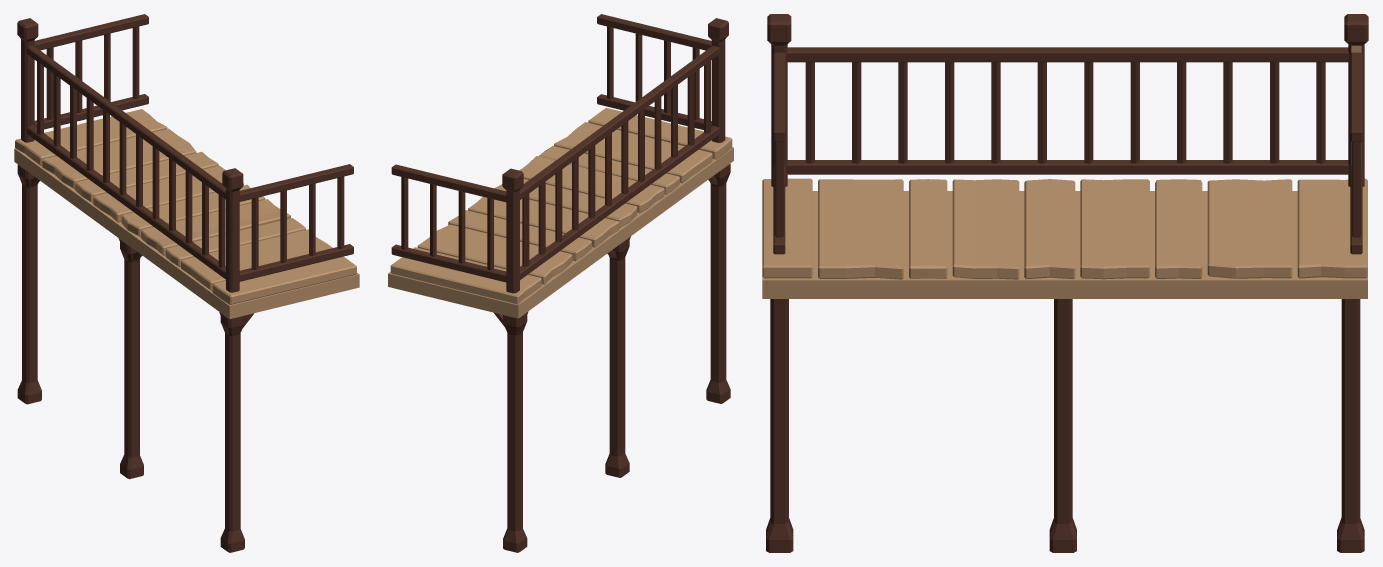
File: balcony-with-railing-a.glb
3 renders of one model, left to right at view 1: azimuth 30°, elevation 25°; view 2: azimuth 150°, elevation 25°; view 3: azimuth 270°, elevation 25°, orthographic. The views are drawn at different scales.
Visible parts, largest first — view 1: Balcony With Railing A (×2); view 2: Balcony With Railing A (×2); view 3: Balcony With Railing A (×2).
Boxes of the visible parts, bbox=[...] form: Balcony With Railing A (×2): bbox=[14, 14, 359, 552]; Balcony With Railing A (×2): bbox=[388, 14, 733, 552]; Balcony With Railing A (×2): bbox=[762, 14, 1368, 552].
Size of the model in its own units: 1.15 by 3.19 by 3.3.
